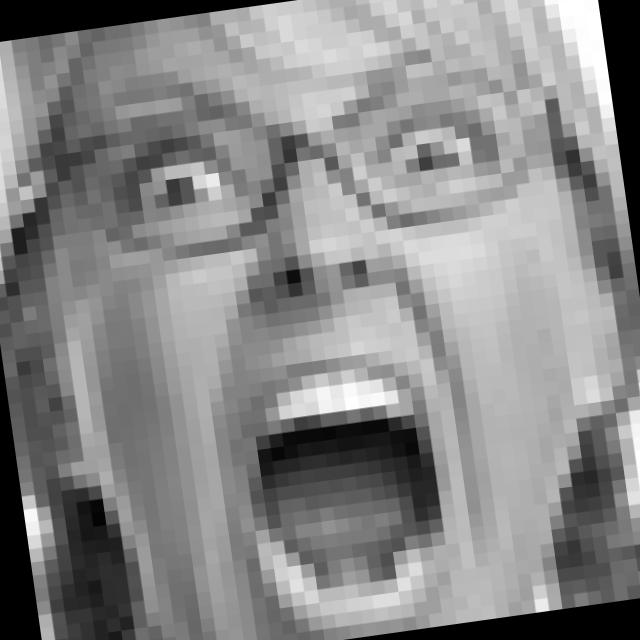angry: (58, 28, 604, 640)
